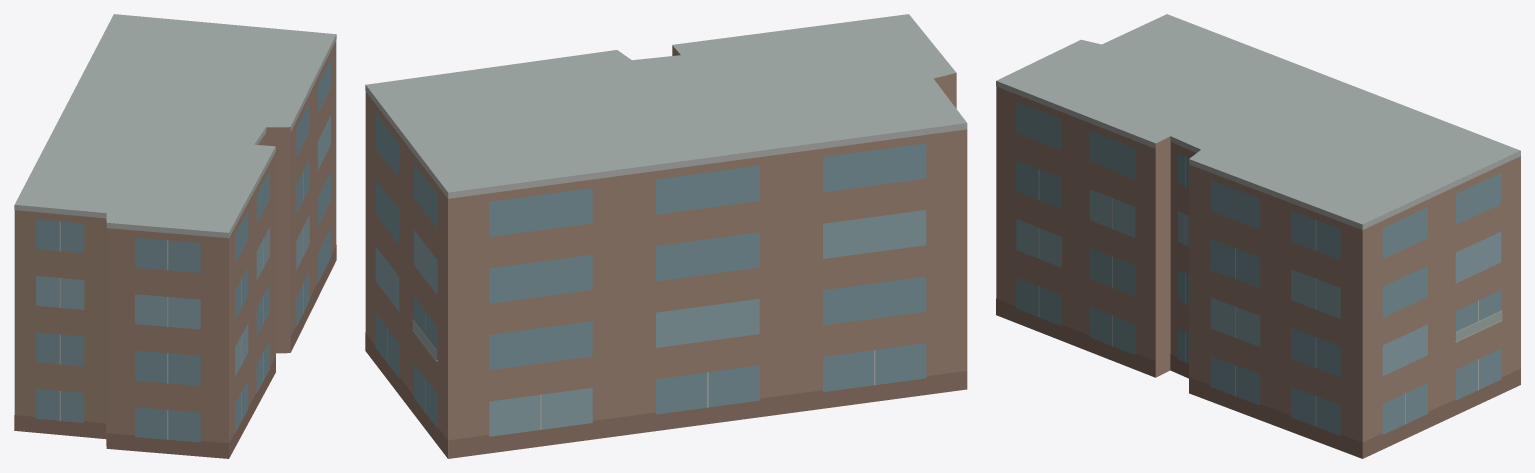
File: survey-upis-32783016.glb
3 renders of one model, left to right at view 1: azimuth 30°, elevation 25°; view 2: azimuth 150°, elevation 25°; view 3: azimuth 270°, elevation 25°, orthographic. The views are drawn at different scales.
Visible parts, largest first — view 1: survey-upis-32783016.tmp; view 2: survey-upis-32783016.tmp; view 3: survey-upis-32783016.tmp.
Part boxes in pixels (left/top/right/bottom): survey-upis-32783016.tmp: left=14, top=14, right=336, bottom=458; survey-upis-32783016.tmp: left=365, top=14, right=967, bottom=458; survey-upis-32783016.tmp: left=996, top=14, right=1520, bottom=458.
Size of the model in its own units: 20.06 by 10.4 by 21.12.
